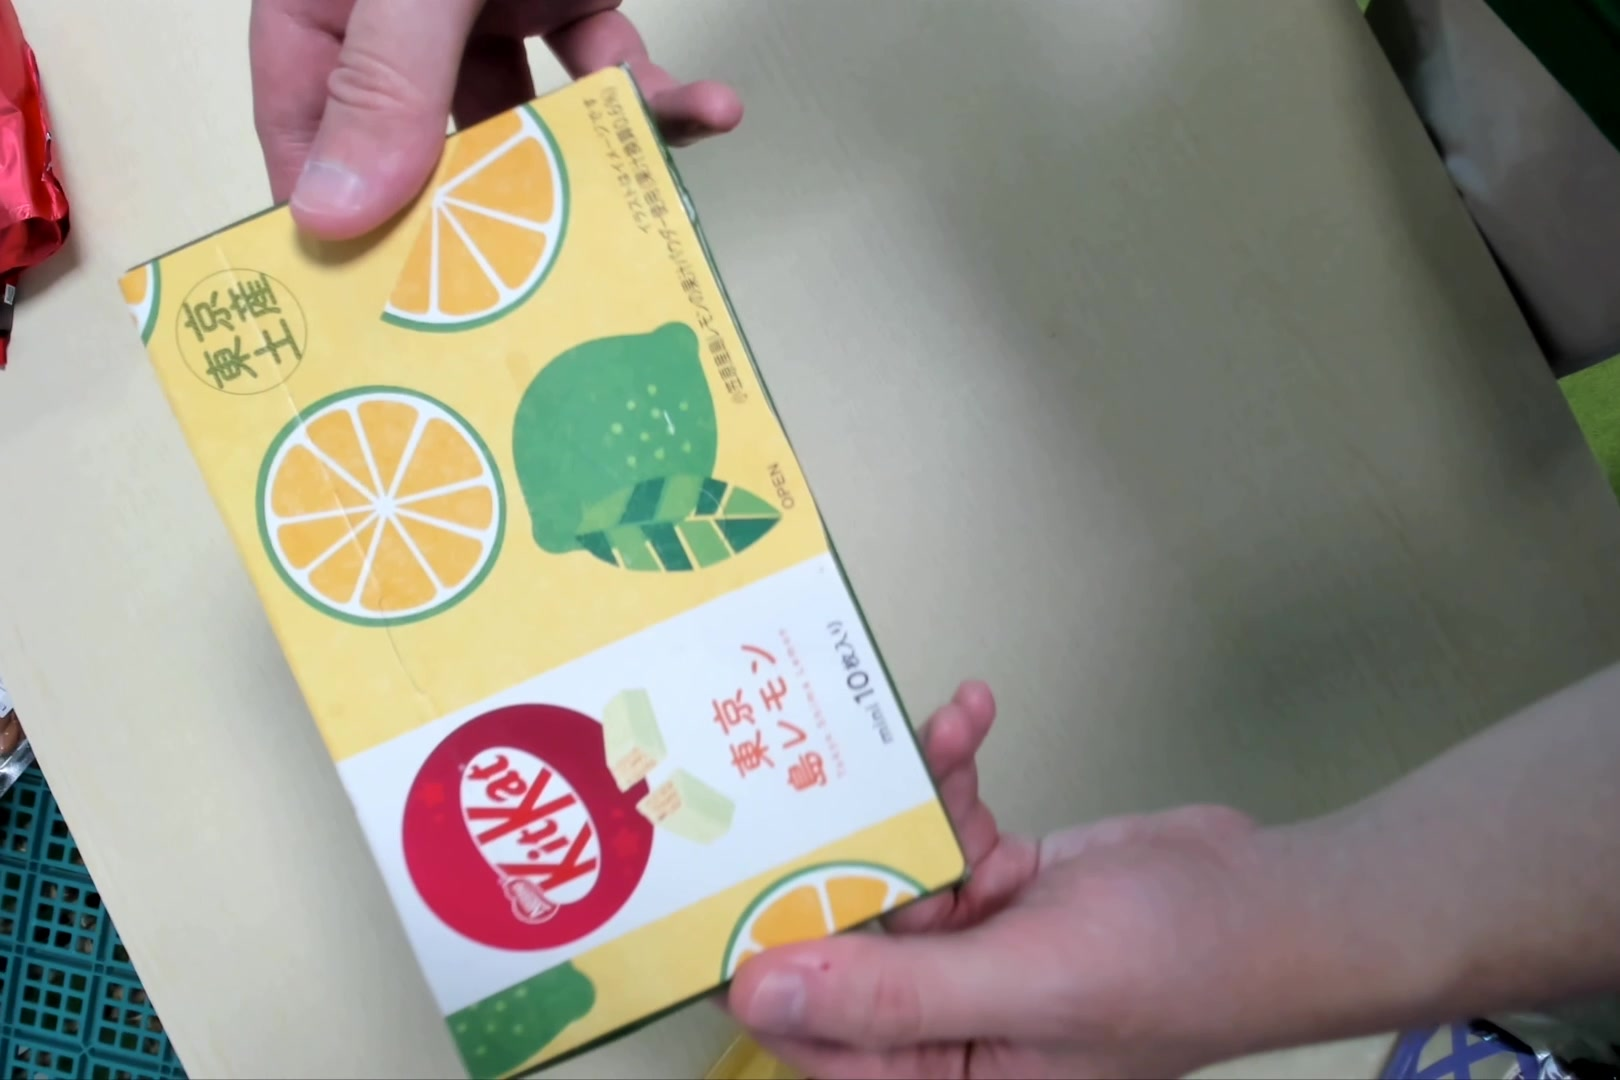SweetsChocolatesOthers_100-199g_NonHalal_NonHealthy: (117, 69, 988, 1080)
